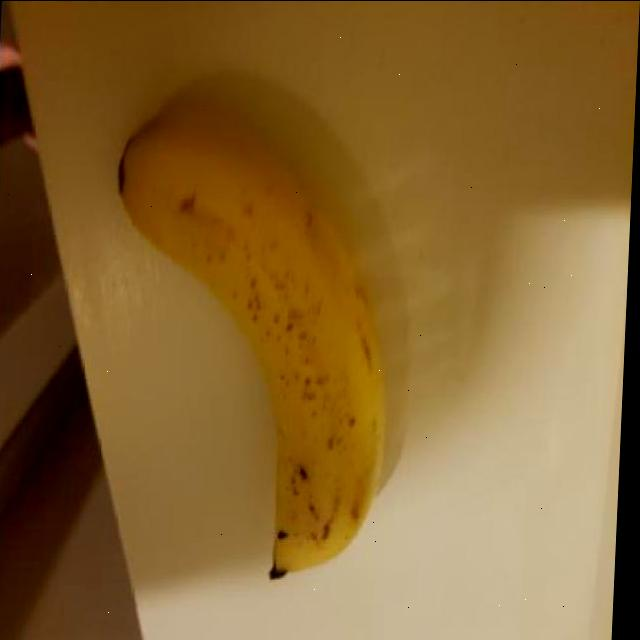banana: (93, 98, 401, 590)
